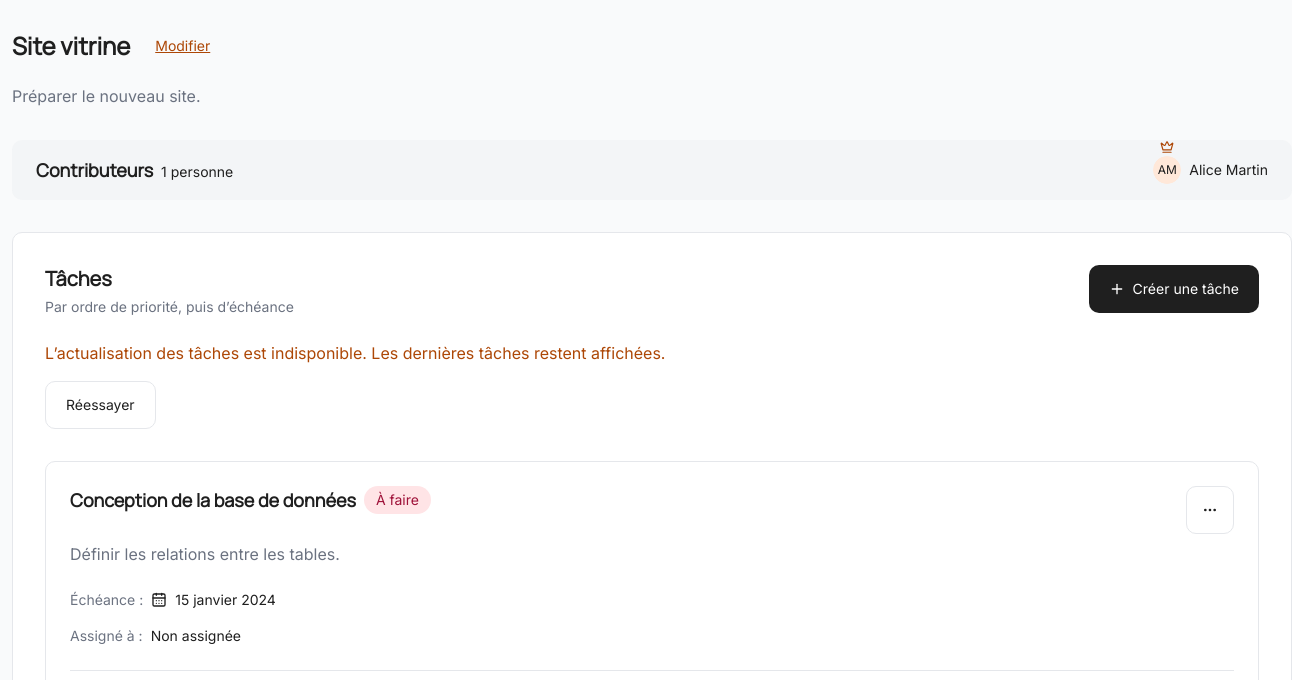
Test case: project tasks › preserves stale tasks when an explicit refetch fails and lets the user retry
This screenshot has width=1292, height=680.
expect the message shows "tâches": met, box x1=45 y1=343 x2=666 y2=363
expect the heading "Site vitrine" is shown: met, box x1=12 y1=30 x2=130 y2=62
Click the button "Réessayer". click: (100, 405)
box: x1=45 y1=381 x2=156 y2=429
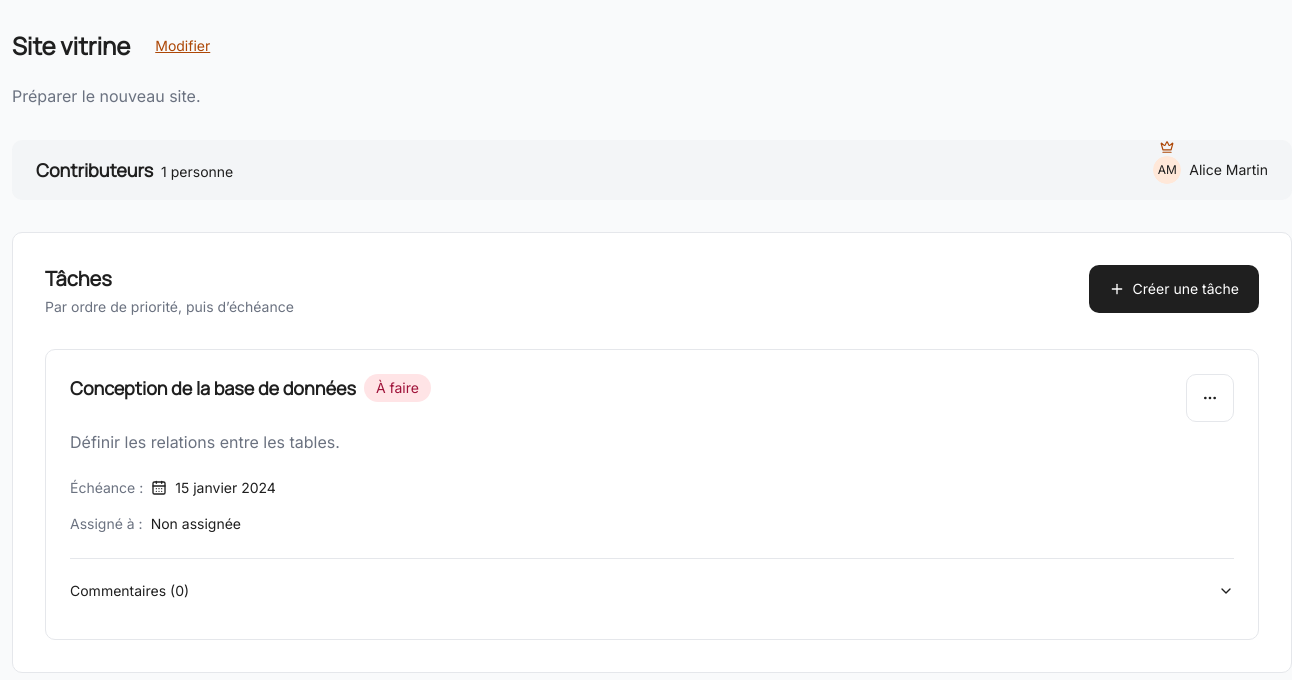
expect the heading "Conception de la base de données" is shown: met, box x1=70 y1=374 x2=356 y2=402
expect the message is gone: met
